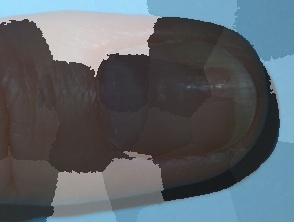Nail_psoriasis: (66, 13, 277, 185)
